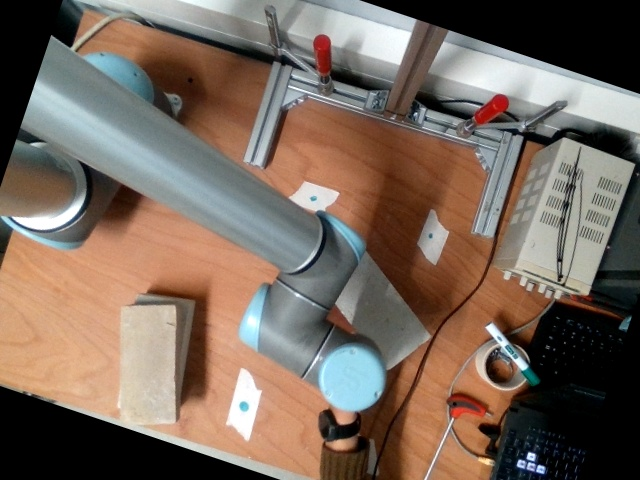brick: (120, 308, 172, 423)
